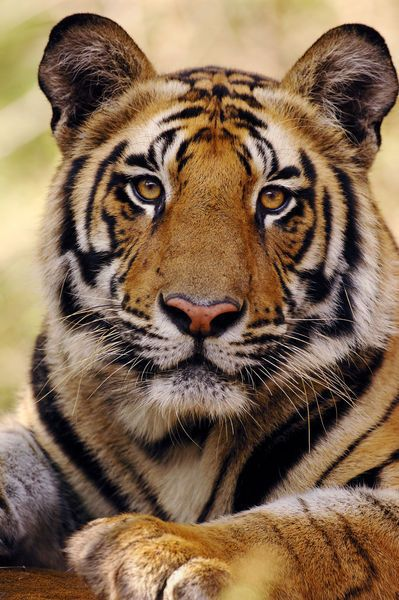Tiger: (1, 9, 399, 585)
